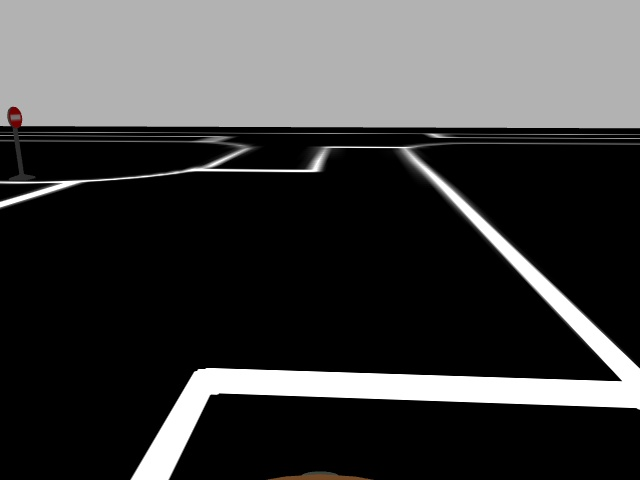prohibited: (6, 103, 24, 132)
